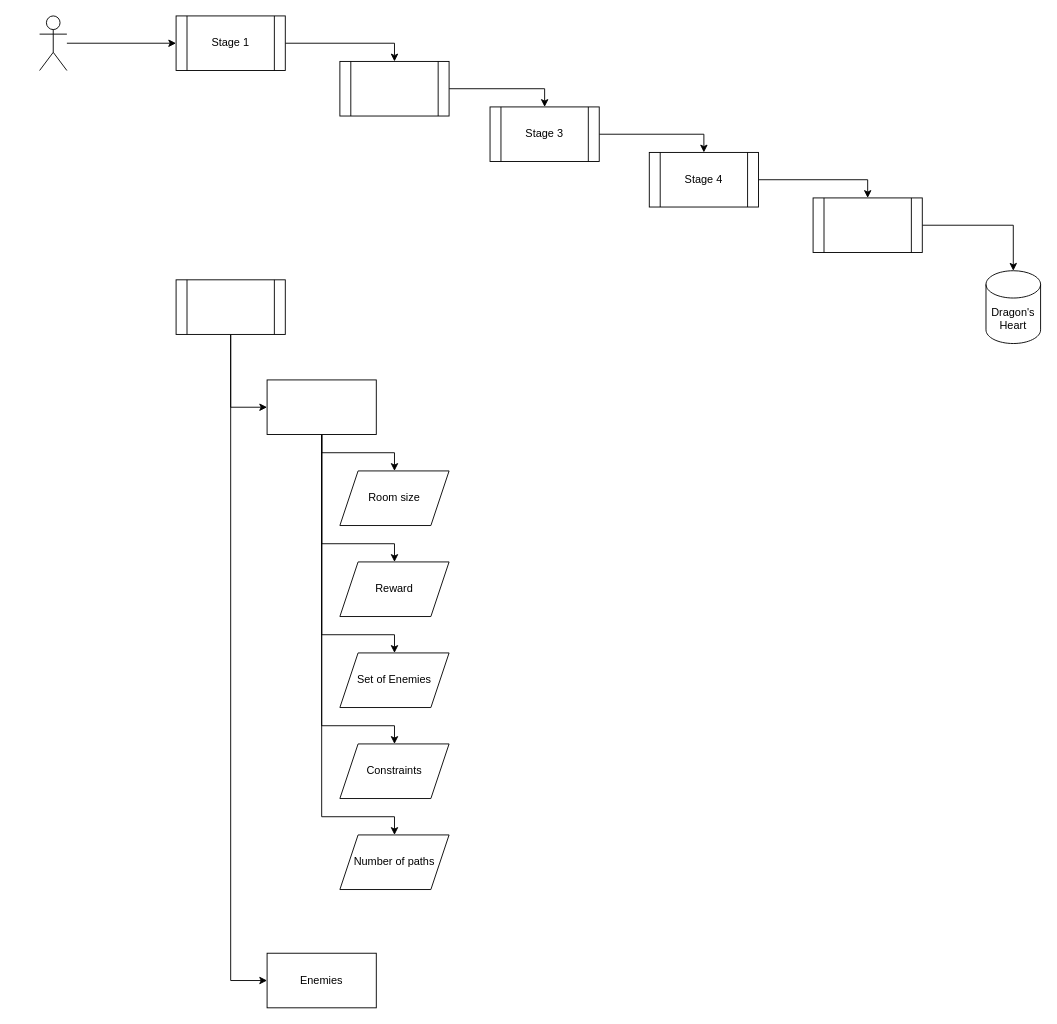
This 1057x1024 diagram has some shape labels left out. The shapes that lost their labels are listed below. From the top down, each one's centre as x and y in pixels, then its label:
point (53, 43): Main Character
point (394, 88): Stage 2
point (867, 225): Stage 5
point (230, 306): Stage
point (321, 407): Rooms
